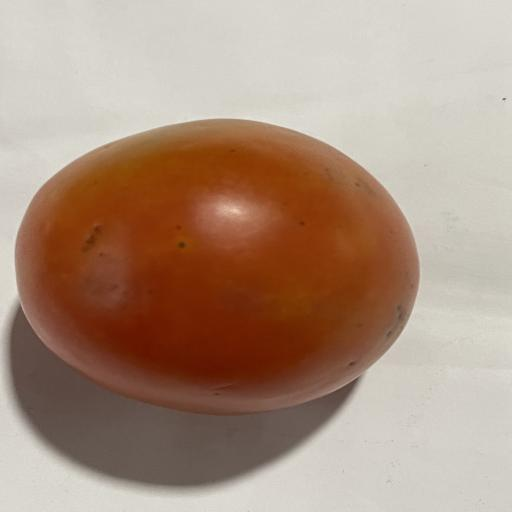ripe: (16, 119, 419, 414)
